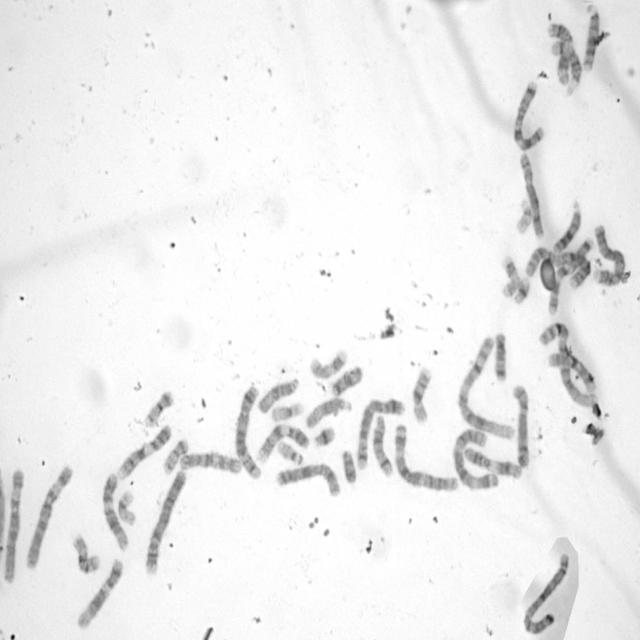A1: (454, 333, 517, 441), (536, 318, 597, 405)
A2: (520, 547, 570, 635), (524, 244, 592, 290)
A3: (392, 419, 459, 493), (450, 424, 500, 492)
B4: (142, 464, 187, 577), (591, 221, 627, 287)
B5: (353, 394, 406, 473), (233, 380, 263, 482)
C10: (546, 348, 597, 396), (177, 448, 244, 476)
C11: (460, 442, 524, 480), (545, 22, 575, 88)
C12: (74, 555, 125, 630), (100, 470, 130, 552)
C6: (23, 460, 74, 570), (1, 466, 25, 586)
C7: (547, 236, 595, 316), (510, 77, 546, 153)
C8: (518, 150, 546, 240), (510, 380, 531, 470)
C9: (115, 420, 173, 480), (254, 418, 312, 467)
D13: (551, 198, 583, 255), (580, 4, 600, 72)
D14: (550, 38, 582, 98), (371, 410, 395, 480)
D15: (304, 393, 354, 431), (255, 374, 301, 415)
E16: (409, 363, 433, 425), (70, 532, 102, 575)
E17: (307, 346, 349, 380), (498, 253, 521, 301)
E18: (328, 362, 364, 398), (492, 328, 508, 384)
F19: (115, 488, 138, 528), (268, 399, 305, 423)
F20: (142, 386, 176, 429), (161, 436, 189, 476)
G21: (311, 423, 337, 450), (512, 274, 531, 306)
G22: (274, 437, 305, 467), (513, 197, 533, 234)
X: (273, 460, 342, 499)
Y: (340, 445, 358, 485)
